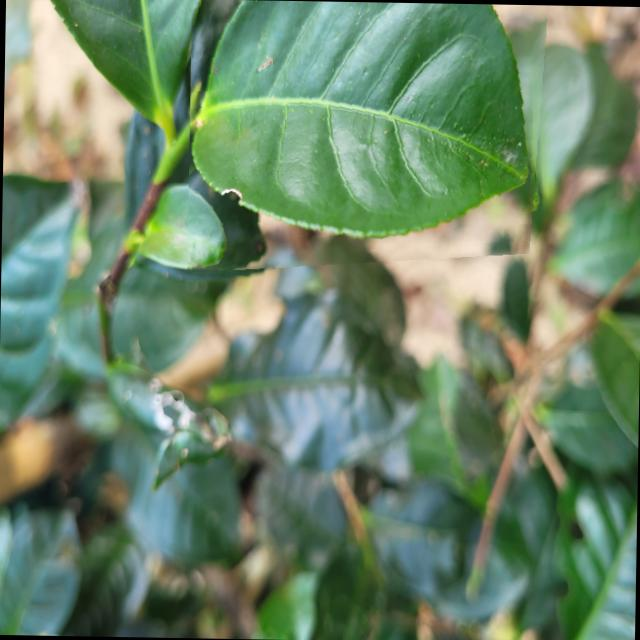Category D(7+ days, Not for Tea): (186, 0, 549, 279)
